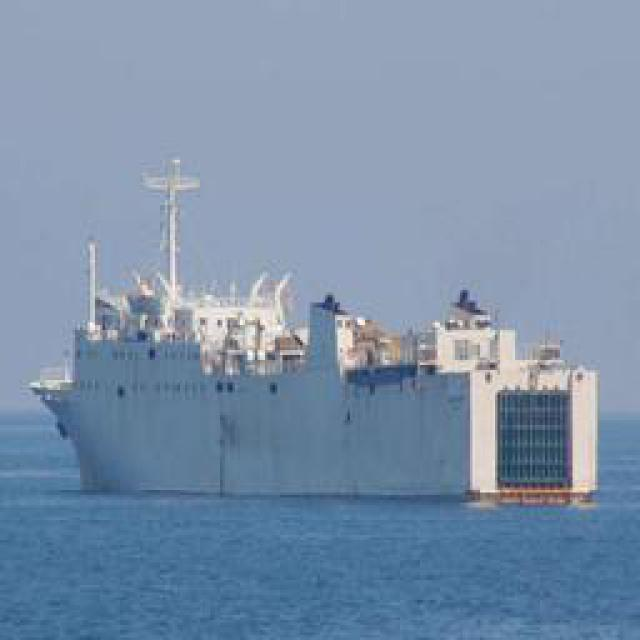Ship: (18, 177, 609, 520)
